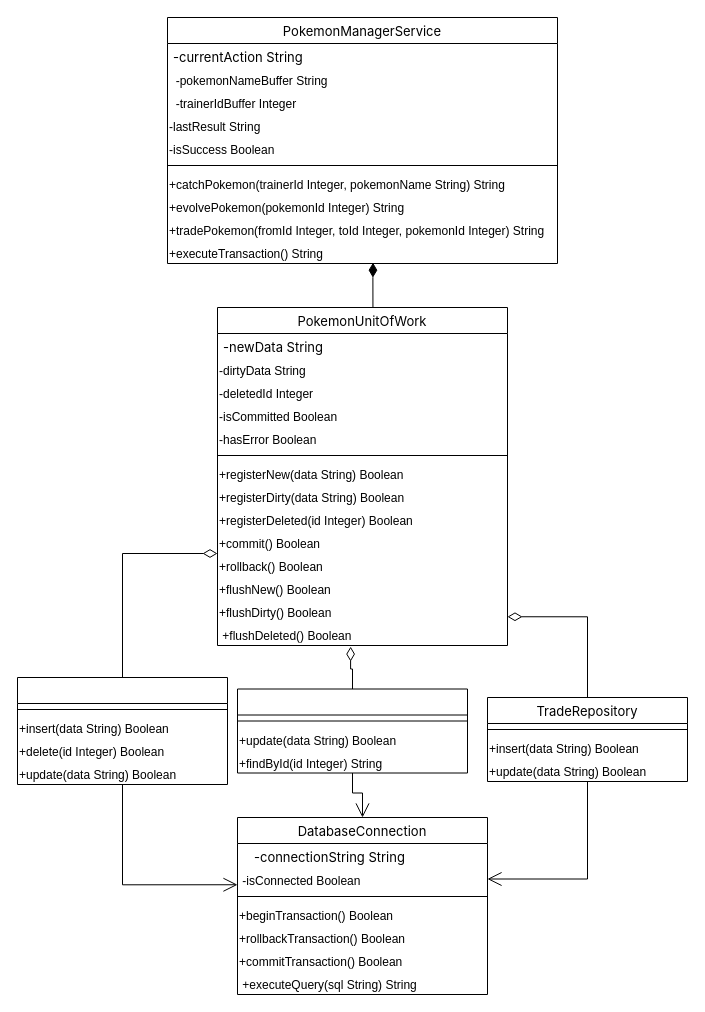
Image size: 705x1012. Some labels were removed from this diagram. Each missing label, with the box of its shape:
PokemonRepository: (16, 676, 228, 784)
TrainerRepository: (236, 688, 468, 773)
